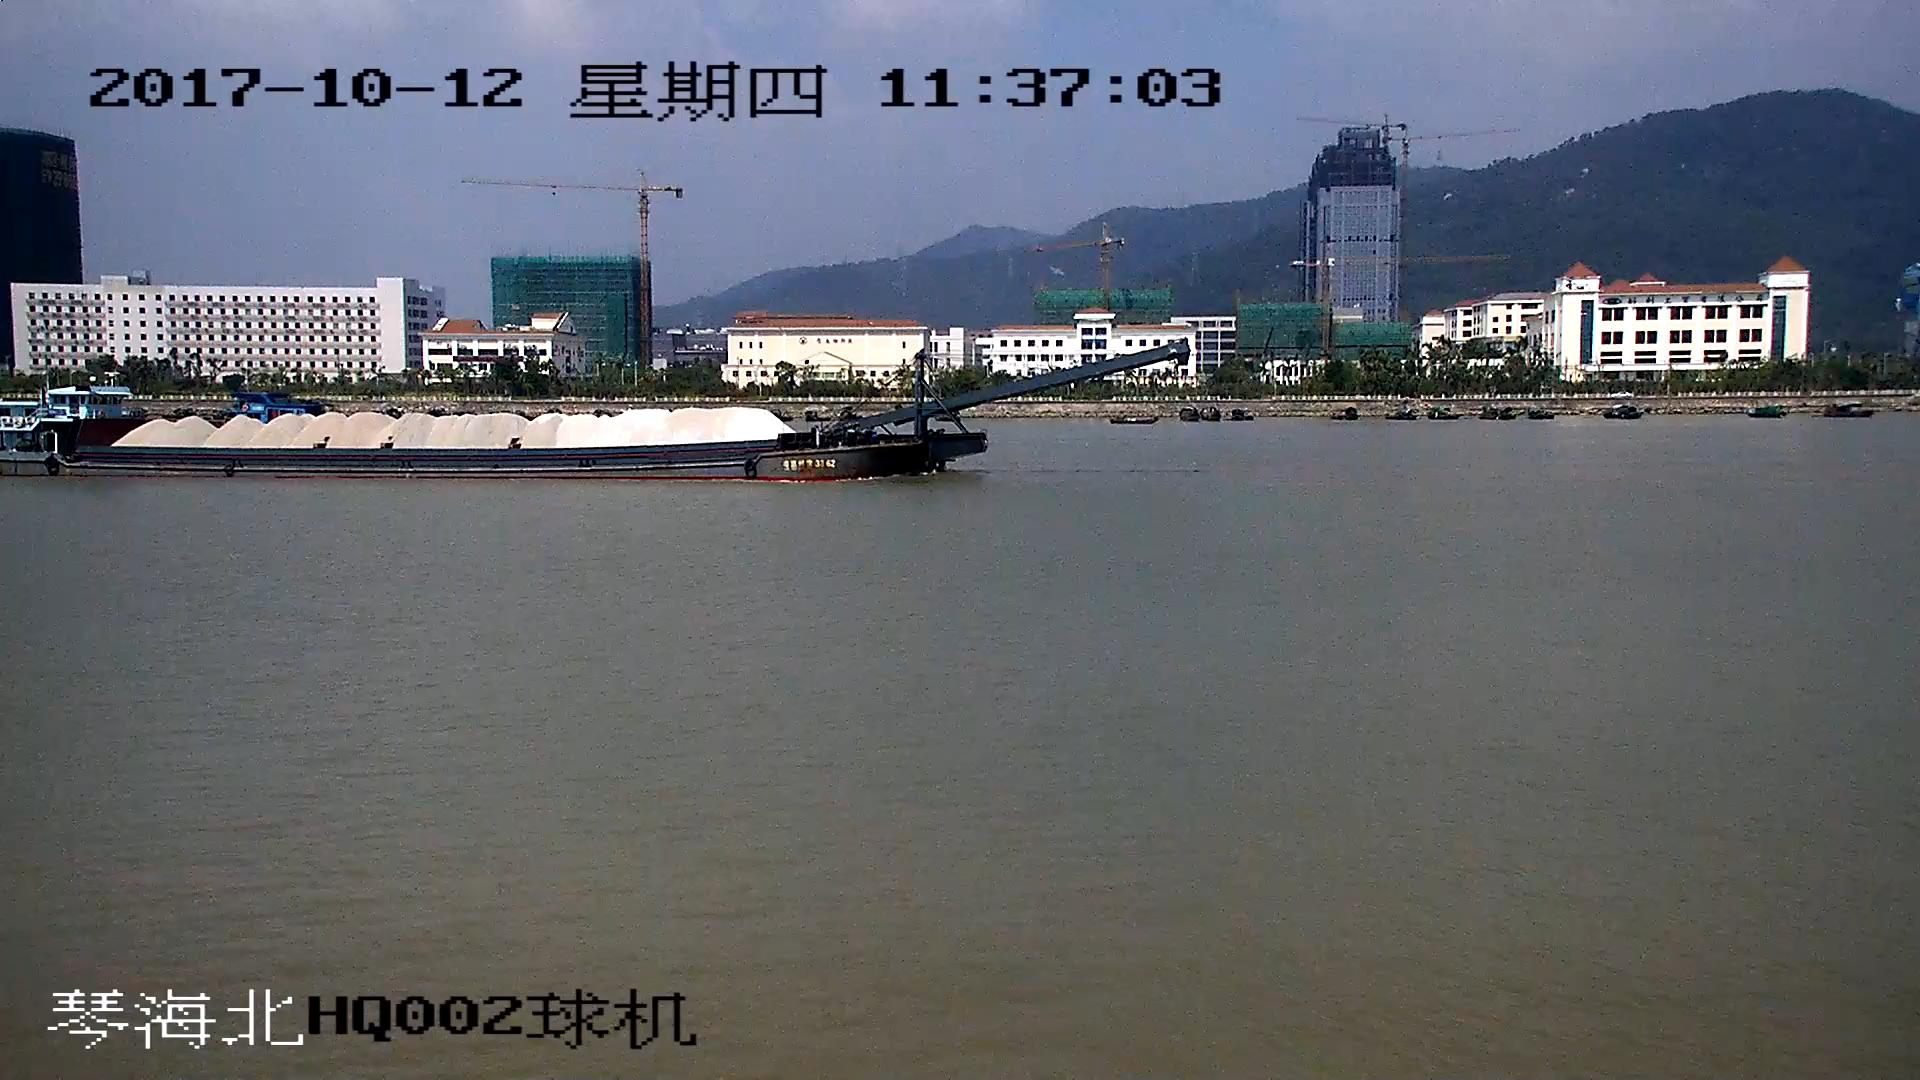ore carrier: (1, 343, 1184, 477)
